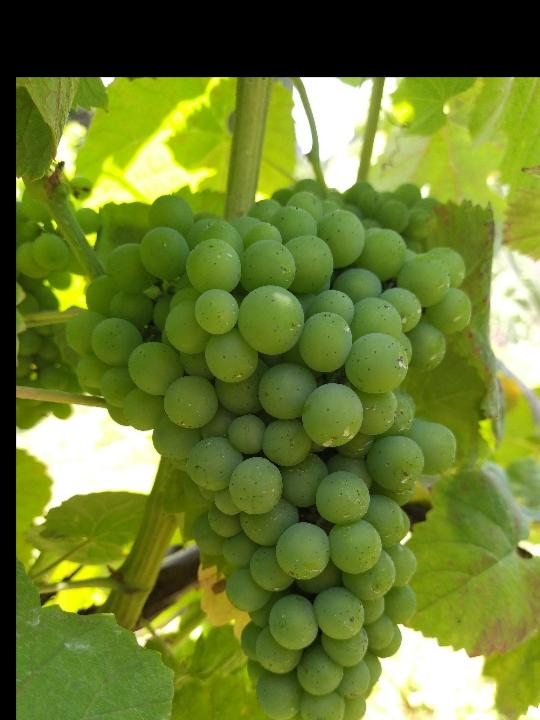grape: (68, 191, 472, 720)
